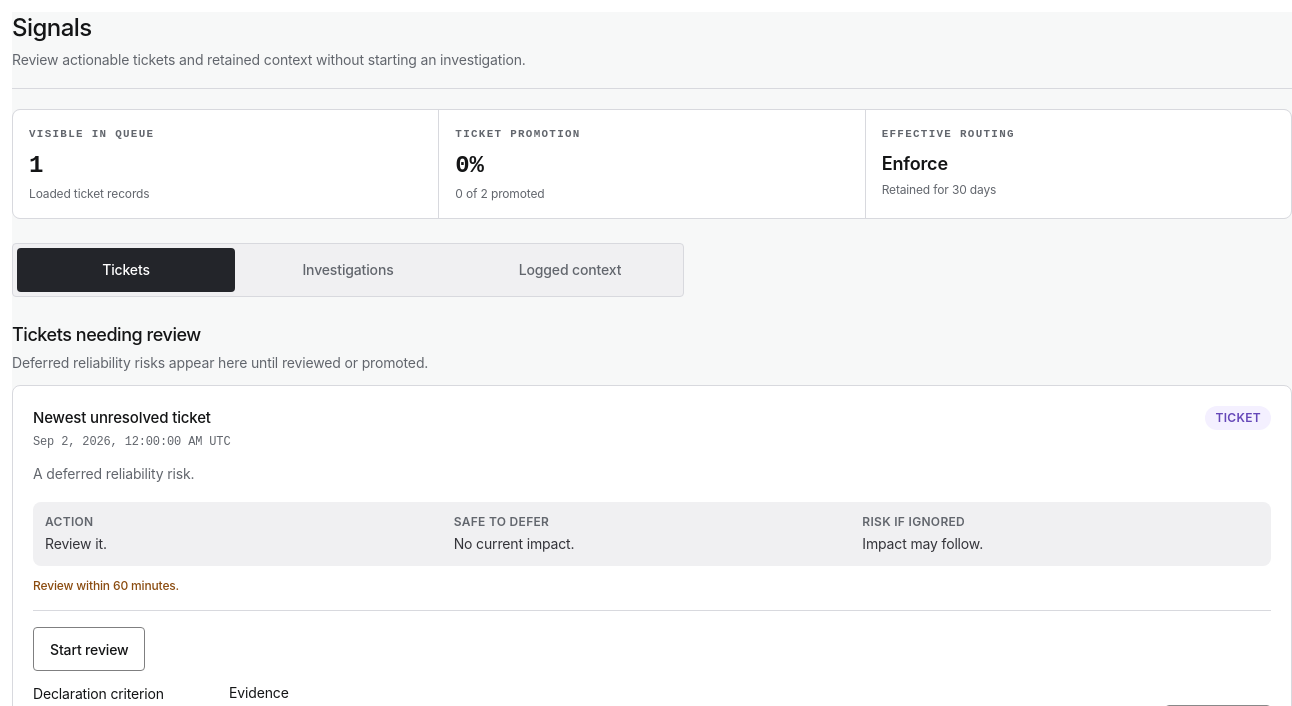
Test: SignalsPanel › shows a retryable error when review cannot start
Click the button "Start review". click: (89, 649)
box: [33, 627, 146, 671]
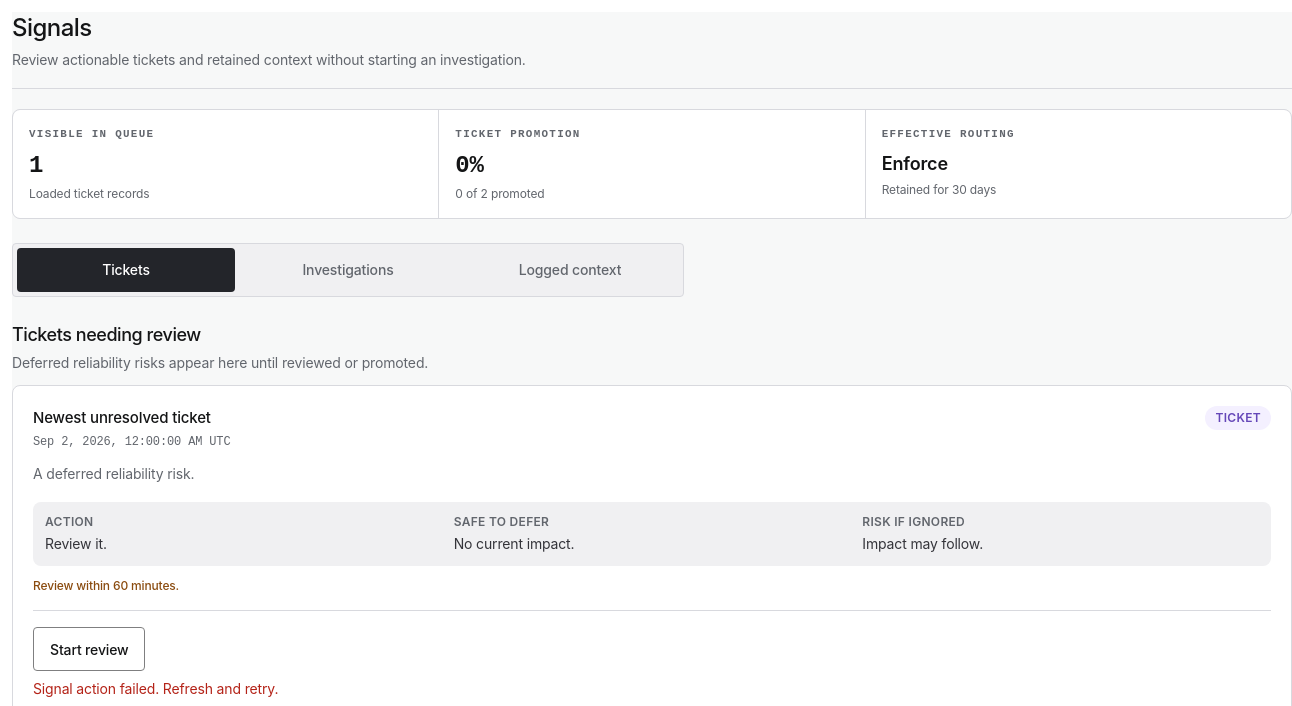
expect the message reads "Signal action failed. Refresh and retry.": met, box [33, 680, 278, 697]
